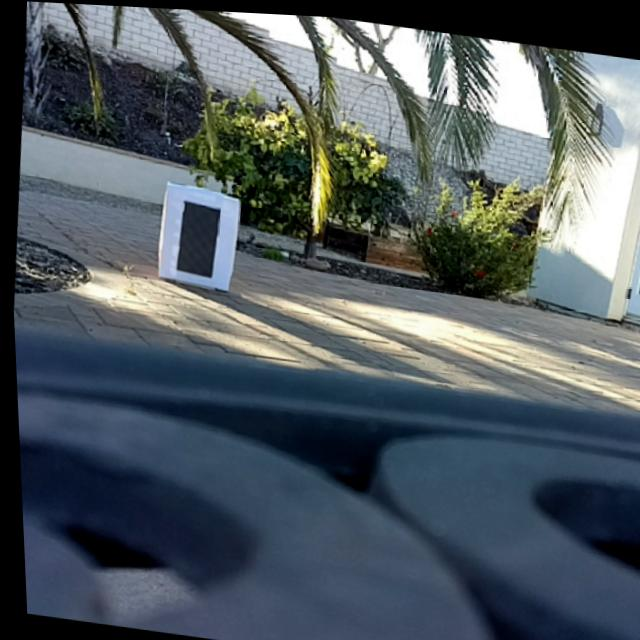led: (171, 195, 221, 278)
